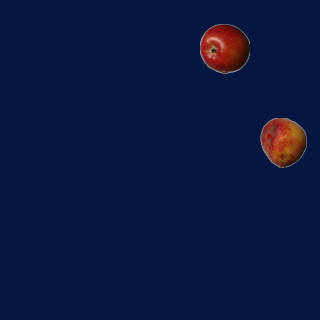Apple Braeburn: (199, 23, 249, 73)
Peach: (258, 117, 308, 167)
